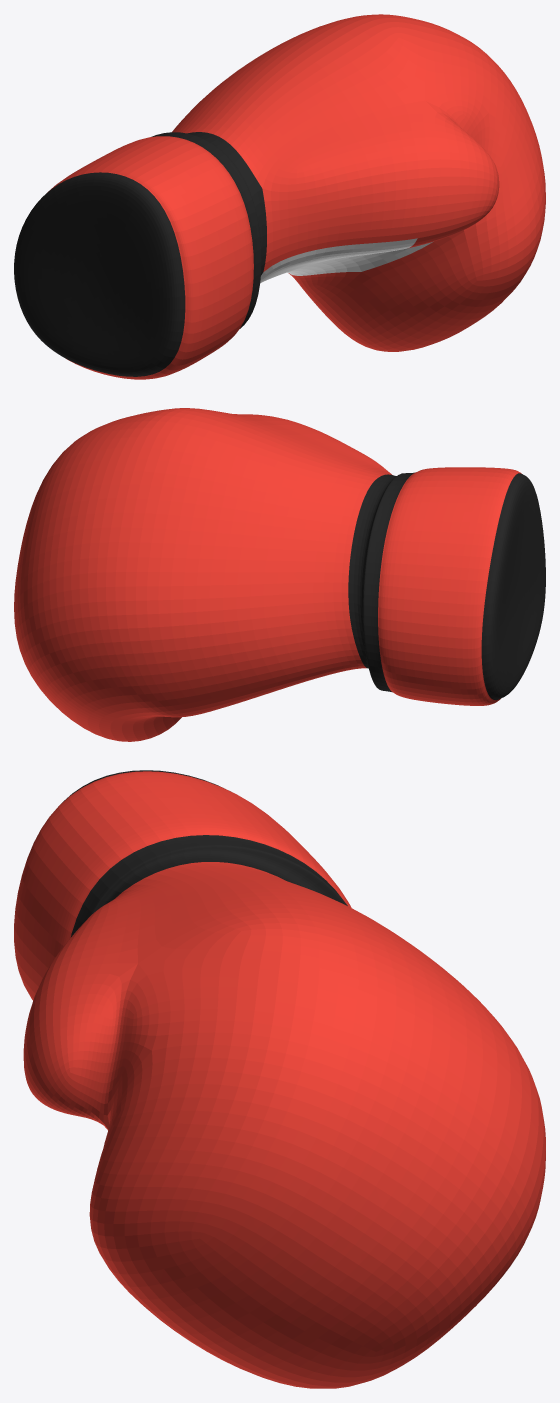
The model's file is left_glove.glb.
The picture shows the model from 3 angles, top to bottom: view 1: azimuth 30°, elevation 25°; view 2: azimuth 150°, elevation 25°; view 3: azimuth 270°, elevation 25°; orthographic projection. The views are drawn at different scales.
Parts seen in each view (by area): view 1: Boxing Glove.003_Glove Material_0.002; view 2: Boxing Glove.003_Glove Material_0.002; view 3: Boxing Glove.003_Glove Material_0.002.
Part boxes in pixels (x1=…): Boxing Glove.003_Glove Material_0.002: x1=14, y1=14, x2=545, y2=379; Boxing Glove.003_Glove Material_0.002: x1=14, y1=408, x2=545, y2=741; Boxing Glove.003_Glove Material_0.002: x1=14, y1=770, x2=545, y2=1388.
Bounding box in the file's own units: 0.9826 × 0.6405 × 0.6975.
Materials: 1 (1 with a texture image).
